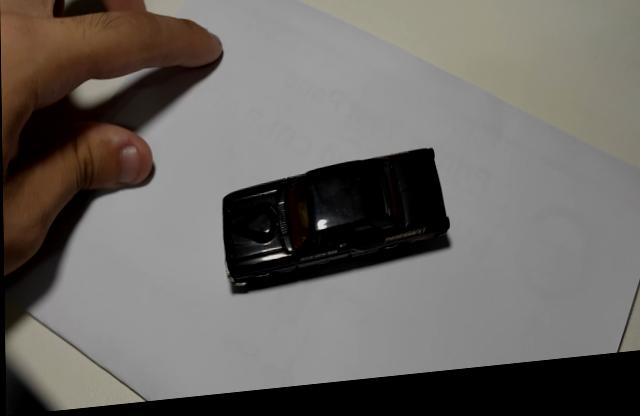01_FORD: (222, 158, 451, 301)
